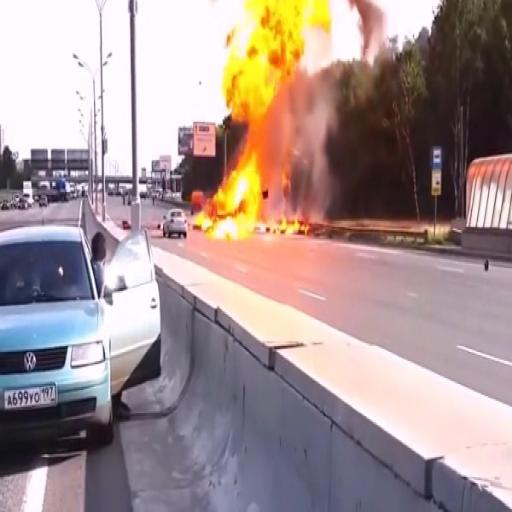fire: (191, 0, 338, 245)
